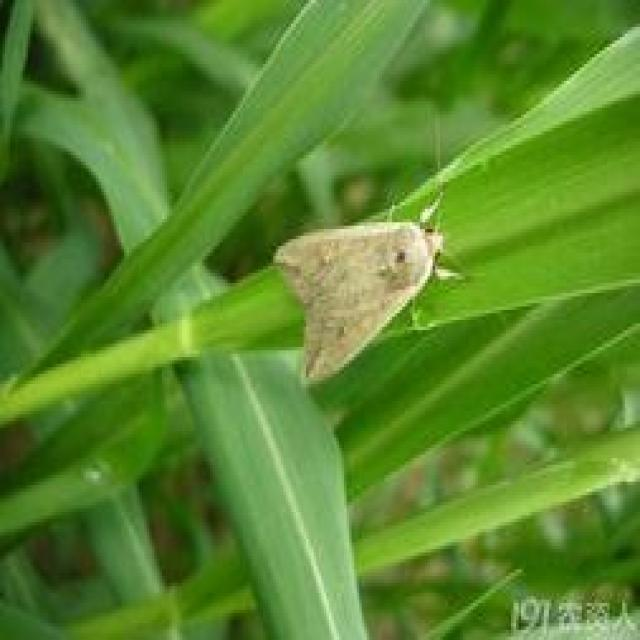army worm: (269, 203, 451, 392)
